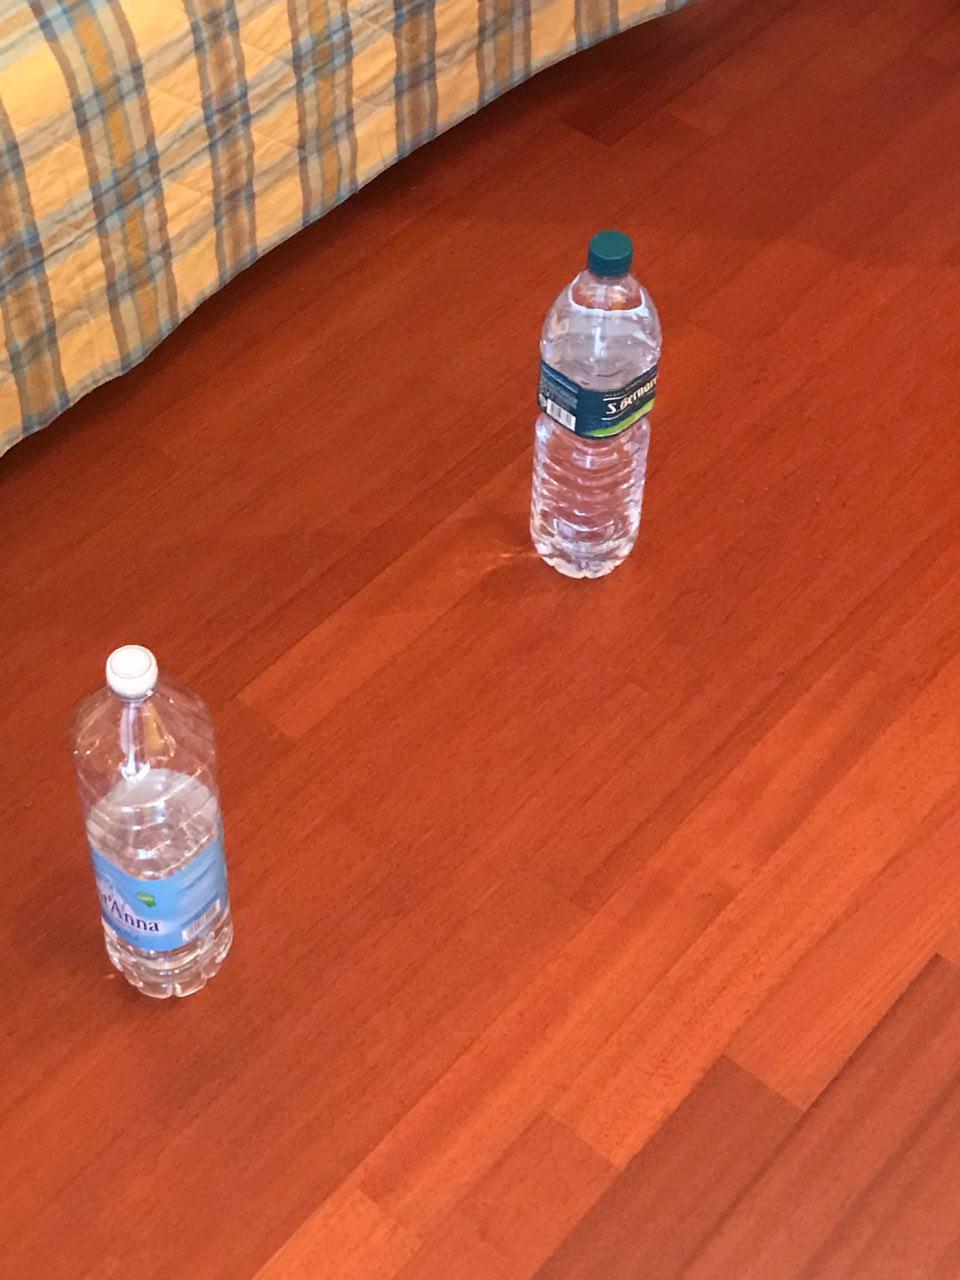san_bernardo: (528, 229, 664, 580)
